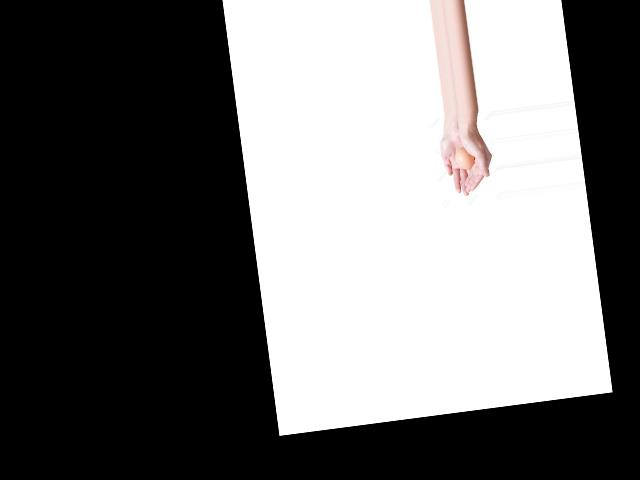egg: (455, 147, 475, 170)
